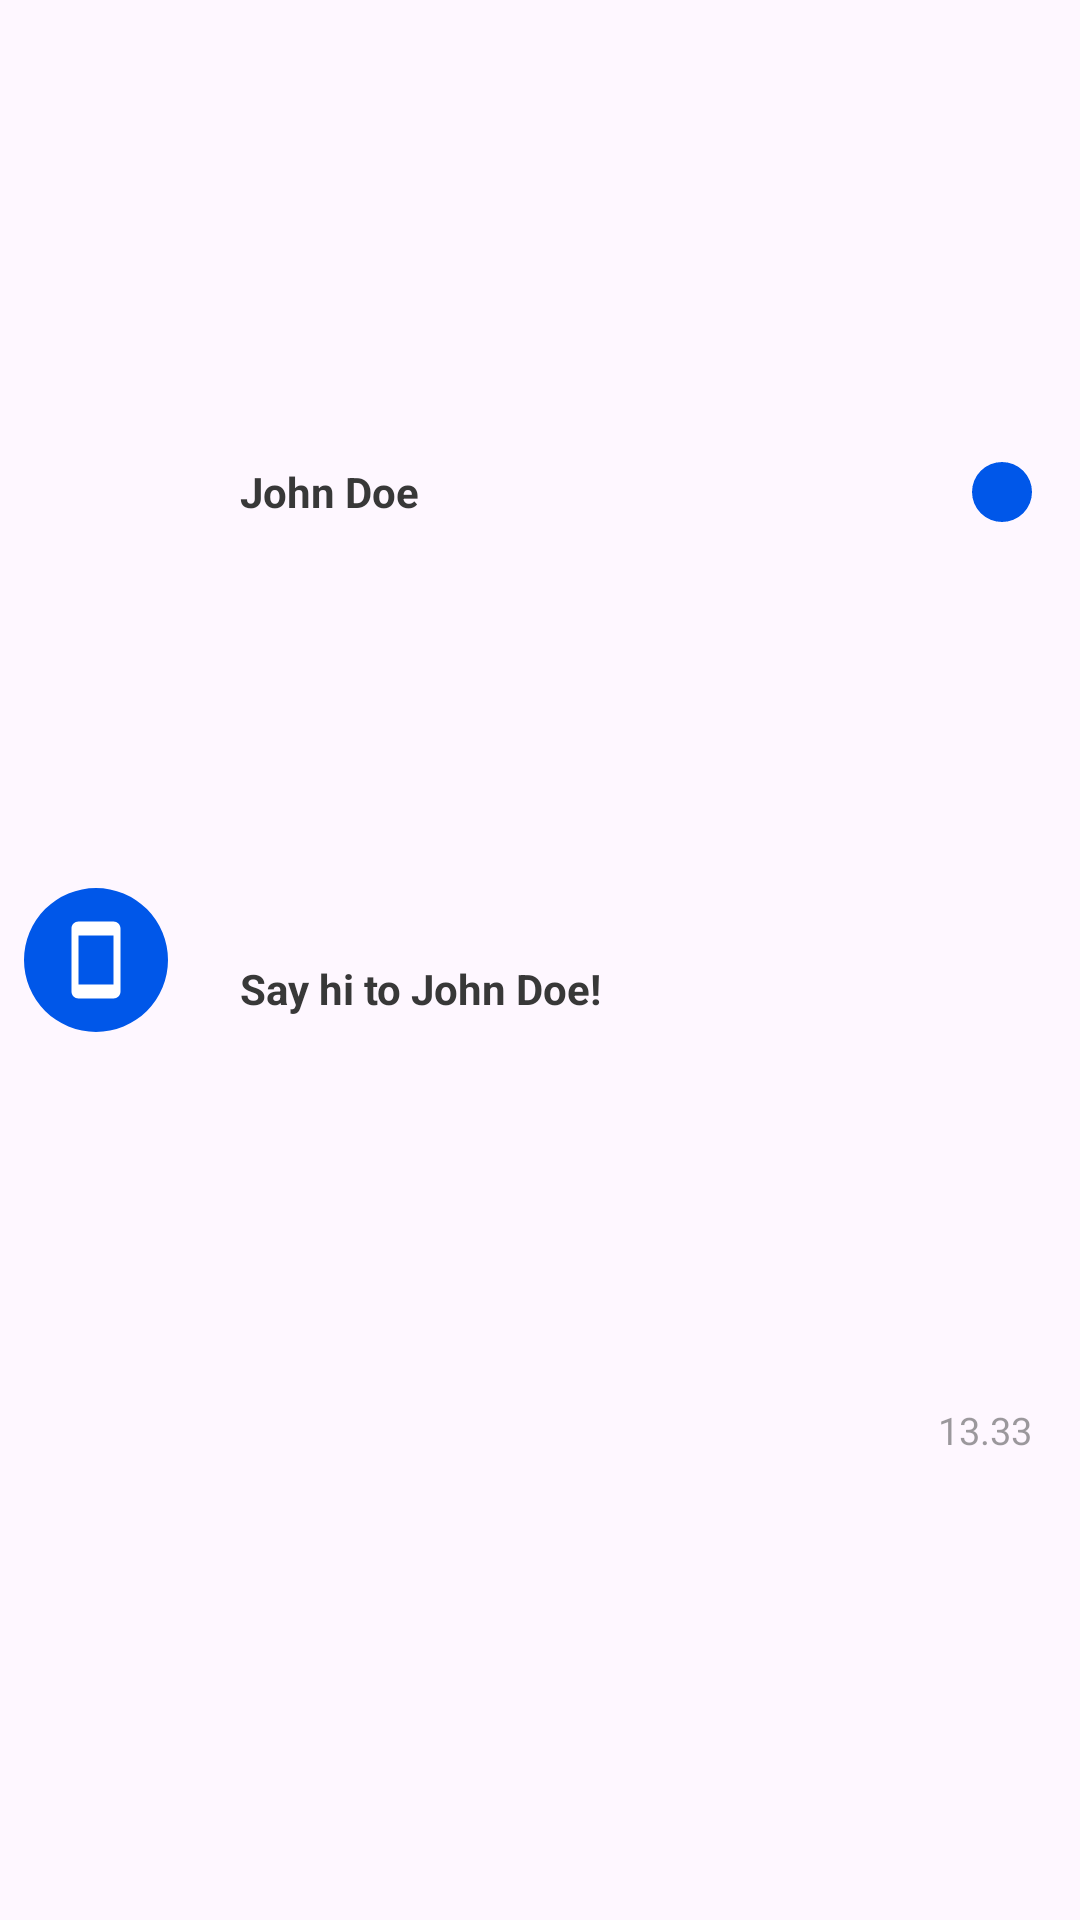

Where icons sit on this 1080 x 1920 app screen, as (x1, y1, x2, y2):
smartphone: (24, 888, 168, 1032)
